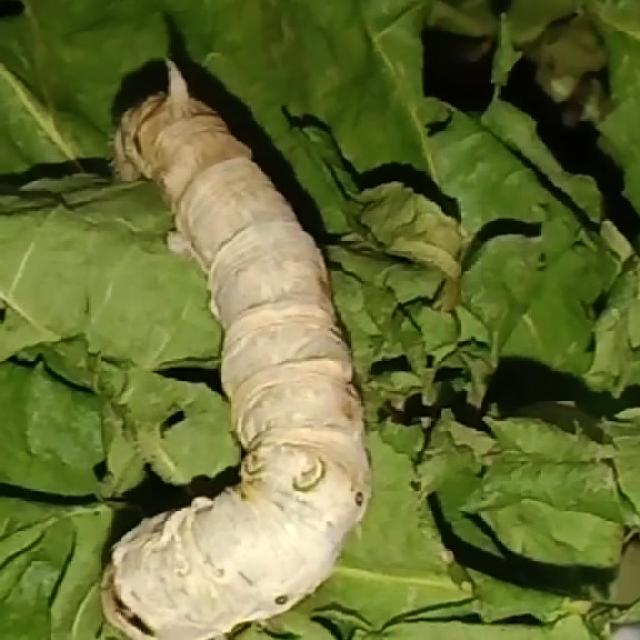Grasserie: (85, 49, 383, 640)
